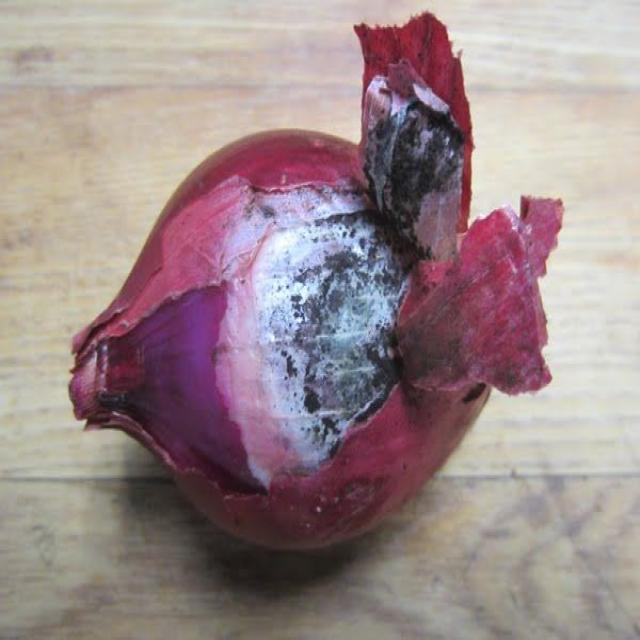mechanical_damage: (23, 0, 615, 595)
rotten: (69, 30, 561, 545)
